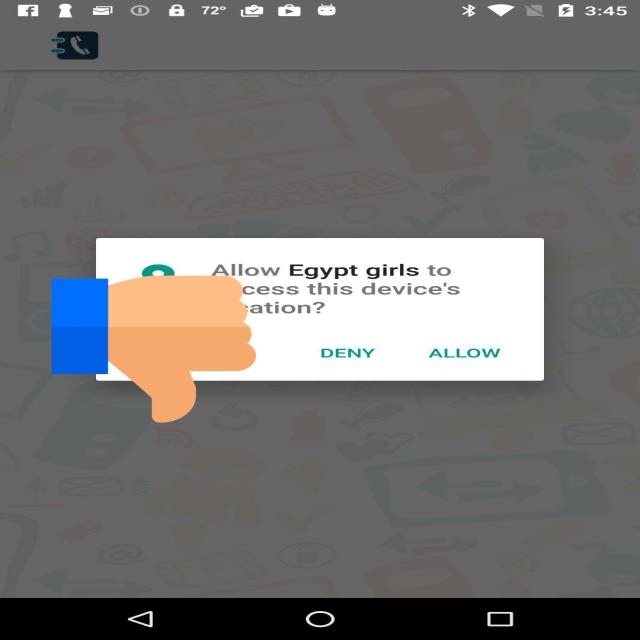obstruction: (52, 272, 256, 426)
